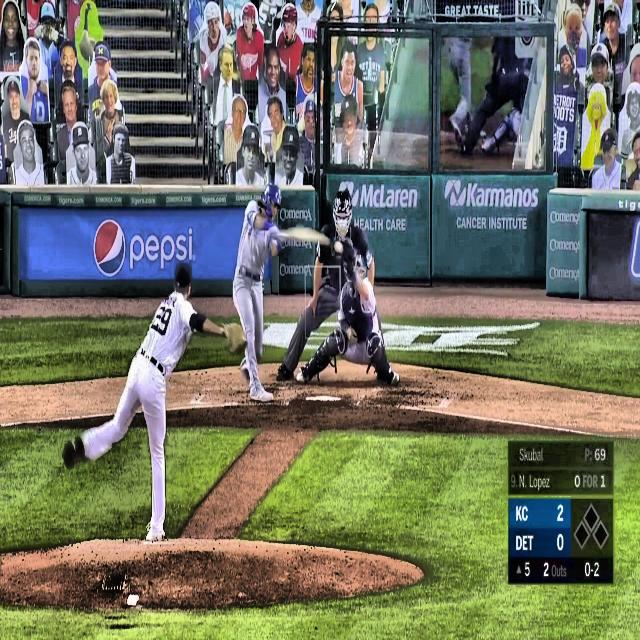baseball: (334, 240, 343, 254)
